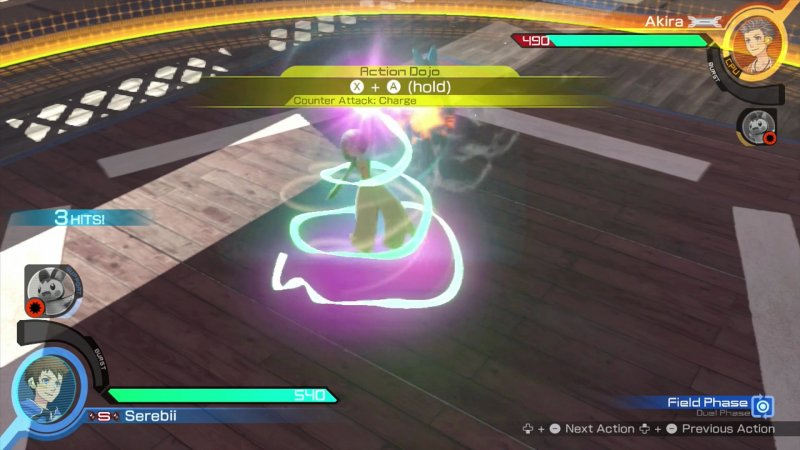gardevoir: (324, 110, 416, 254)
